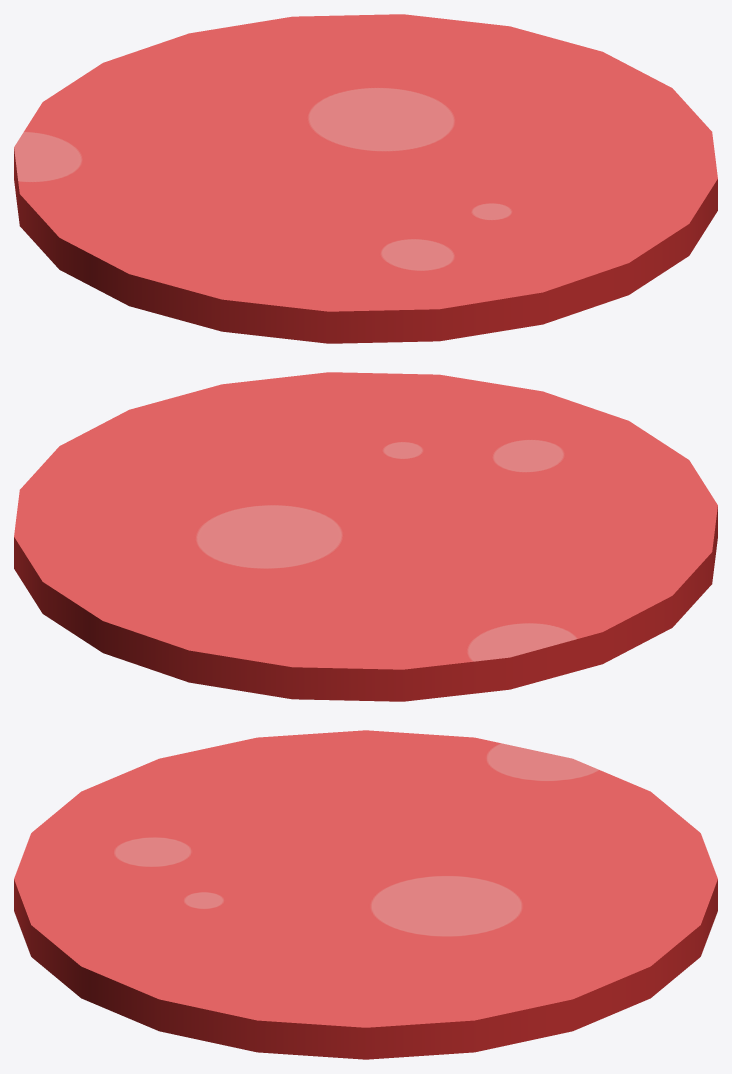
The model's file is Ham_Slice.glb.
3 views of the same model, one above another, from view 1: azimuth 30°, elevation 25°; view 2: azimuth 150°, elevation 25°; view 3: azimuth 270°, elevation 25° (orthographic).
Parts seen in each view (by area): view 1: Ham_Slice; view 2: Ham_Slice; view 3: Ham_Slice.
Boxes of the visible parts, bbox=[...] form: Ham_Slice: bbox=[14, 14, 717, 343]; Ham_Slice: bbox=[14, 372, 717, 701]; Ham_Slice: bbox=[14, 730, 717, 1059].
Bounding box in the file's own units: 20 × 1 × 20.
Materials: 1 (1 with a texture image).
